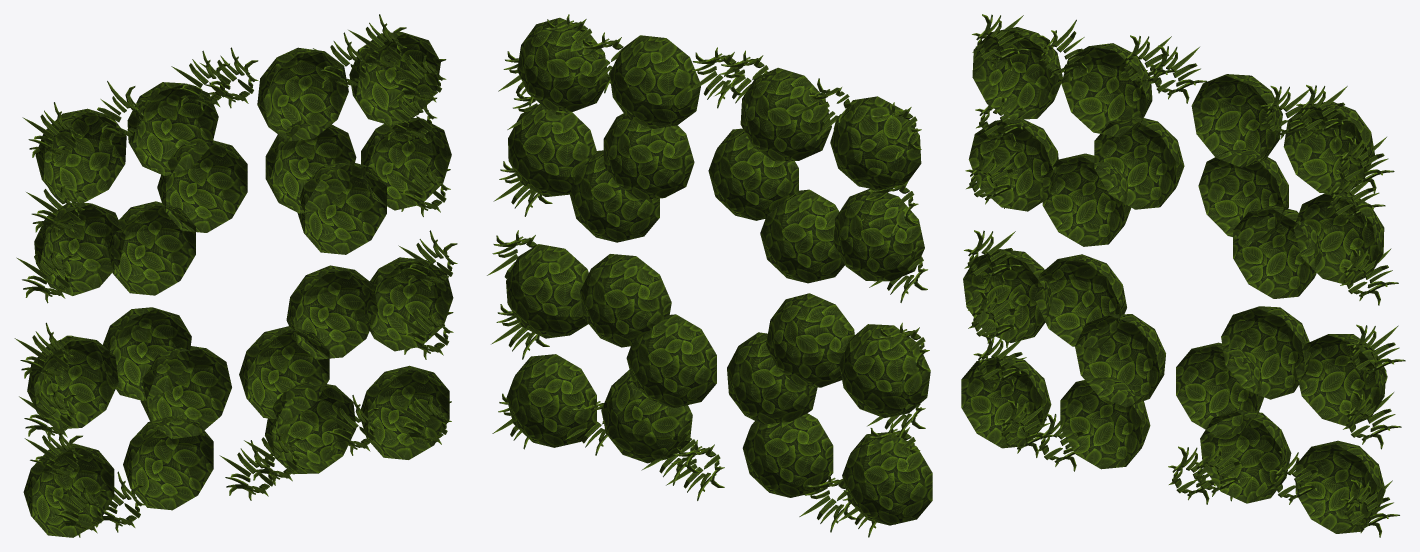
File: bushes2.dae
3 renders of one model, left to right at view 1: azimuth 30°, elevation 25°; view 2: azimuth 150°, elevation 25°; view 3: azimuth 330°, elevation 25°, orthographic.
Visible parts, largest first — view 1: Icosphere_046; view 2: Icosphere_046; view 3: Icosphere_046.
Part boxes in pixels (x1=…): Icosphere_046: x1=14, y1=14, x2=457, y2=537; Icosphere_046: x1=487, y1=14, x2=932, y2=537; Icosphere_046: x1=961, y1=14, x2=1405, y2=537.
Bounding box in the file's own units: 5.55 × 0.5976 × 5.54.
1 material, 1 textured.
